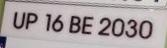0: (138, 19, 154, 43), (111, 17, 125, 40)
1: (44, 11, 53, 33)
2: (97, 16, 112, 37)
3: (124, 18, 138, 41)
6: (51, 13, 64, 33)
B: (68, 14, 81, 35)
E: (81, 15, 95, 35)
P: (25, 10, 39, 33)
U: (10, 10, 27, 31)
